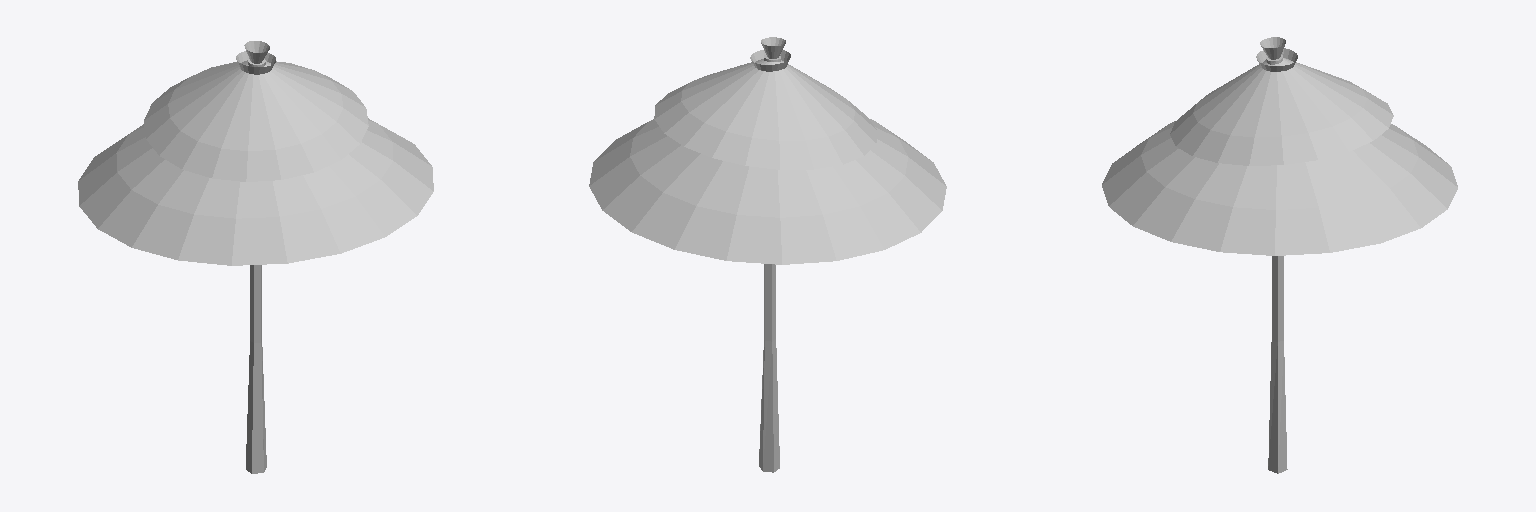
Rendered from uploads_files_253969_PatioDoublePalmUmbrella.obj.
3 renders of one model, left to right at view 1: azimuth 30°, elevation 25°; view 2: azimuth 150°, elevation 25°; view 3: azimuth 270°, elevation 25°, orthographic.
Parts seen in each view (by area): view 1: Palm, Metal; view 2: Palm, Metal; view 3: Palm, Metal.
Part boxes in pixels (bbox=[...]): Palm: bbox=[78, 41, 433, 265]; Metal: bbox=[246, 59, 266, 473]; Palm: bbox=[589, 37, 946, 264]; Metal: bbox=[759, 55, 780, 472]; Palm: bbox=[1102, 37, 1457, 255]; Metal: bbox=[1266, 55, 1287, 473].
Bounding box in the file's own units: 2.53 × 3.31 × 2.51.